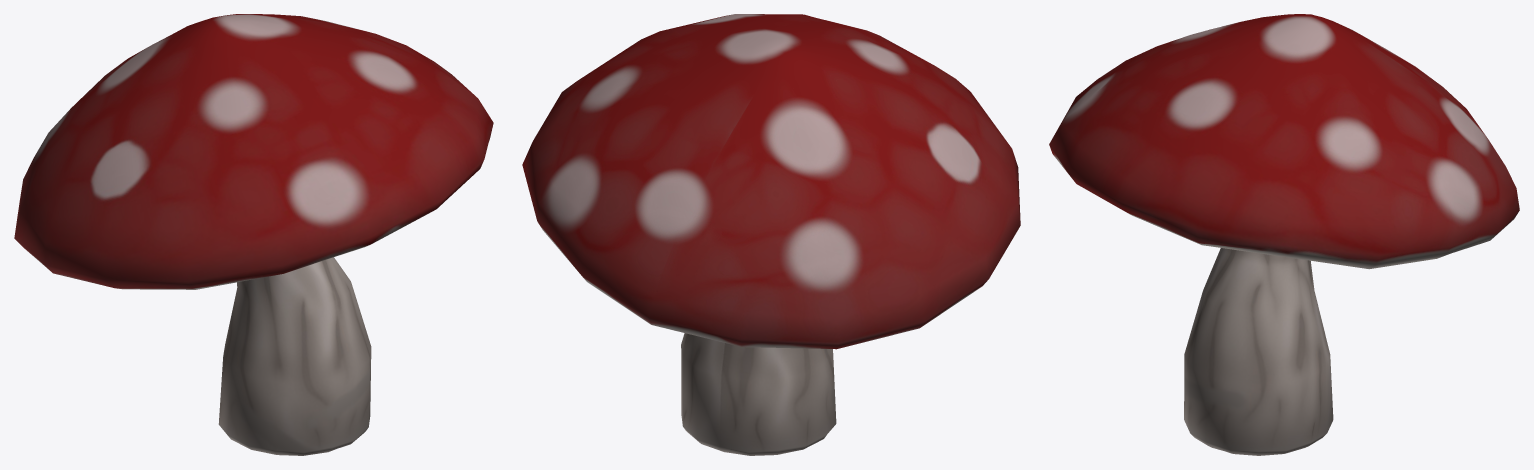
The model's file is mushroom_02.glb.
3 views of the same model, side by side, from view 1: azimuth 30°, elevation 25°; view 2: azimuth 150°, elevation 25°; view 3: azimuth 270°, elevation 25° (orthographic). The views are drawn at different scales.
Parts seen in each view (by area): view 1: Shroom; view 2: Shroom; view 3: Shroom.
Part boxes in pixels (x1,y1,x2,y2): Shroom: (14, 14, 493, 455); Shroom: (522, 14, 1020, 455); Shroom: (1049, 14, 1519, 455).
Bounding box in the file's own units: 1.97 × 1.85 × 1.96.
1 material, 1 textured.
